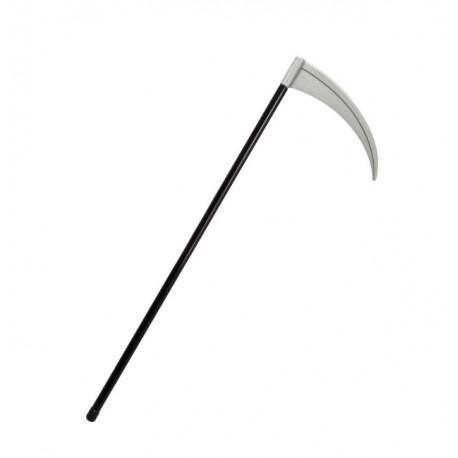foice: (238, 51, 386, 220)
